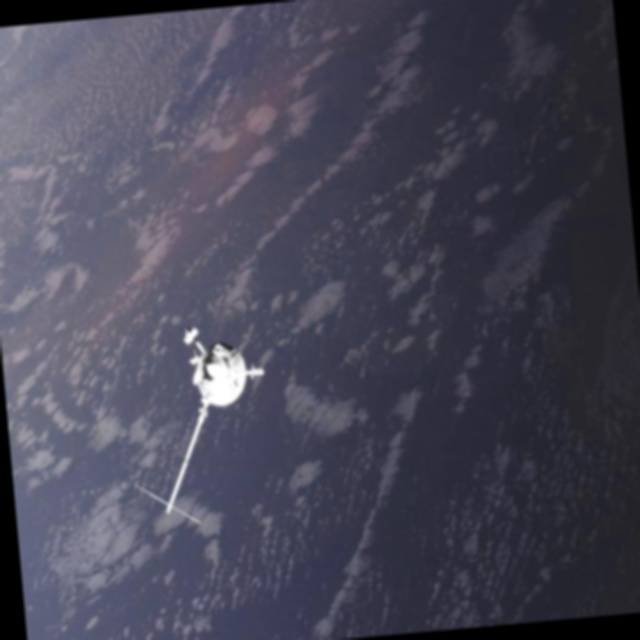satellite: (123, 316, 285, 533)
